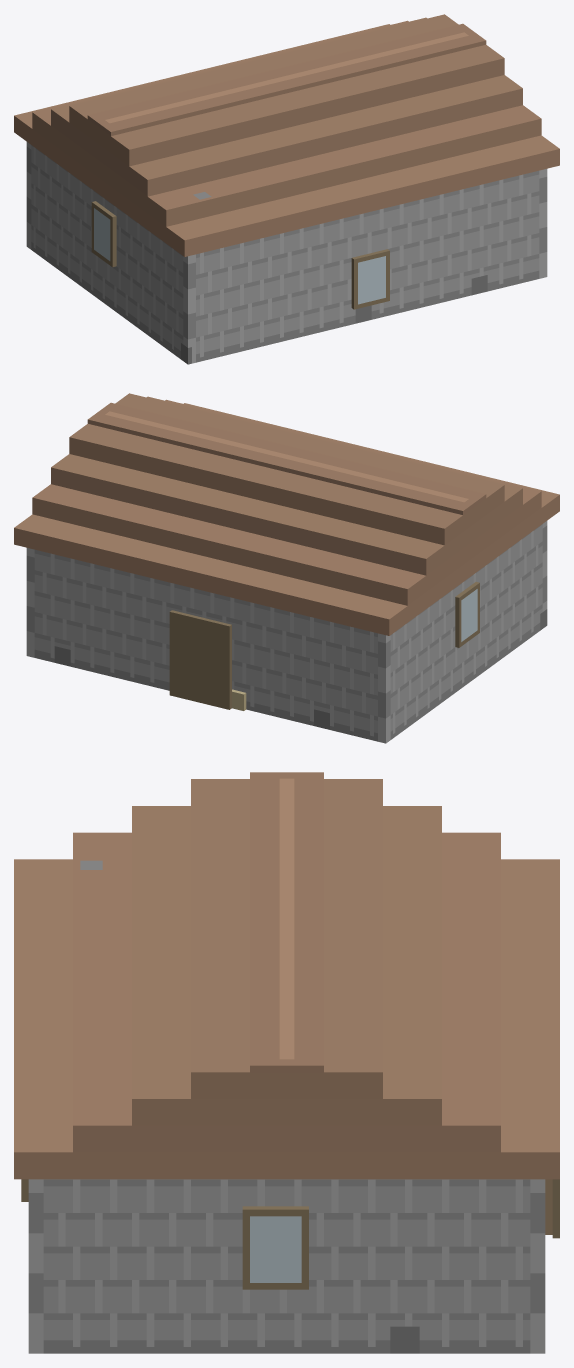
File: cantera_03.glb
3 views of the same model, one above another, from view 1: azimuth 30°, elevation 25°; view 2: azimuth 150°, elevation 25°; view 3: azimuth 270°, elevation 25° (orthographic). The views are drawn at different scales.
Visible parts, largest first — view 1: cantera_03; view 2: cantera_03; view 3: cantera_03.
Part boxes in pixels (x1=…): cantera_03: x1=14, y1=14, x2=559, y2=364; cantera_03: x1=14, y1=393, x2=559, y2=743; cantera_03: x1=14, y1=772, x2=559, y2=1353.
Size of the model in its own units: 9.4 by 4.4 by 7.4.
